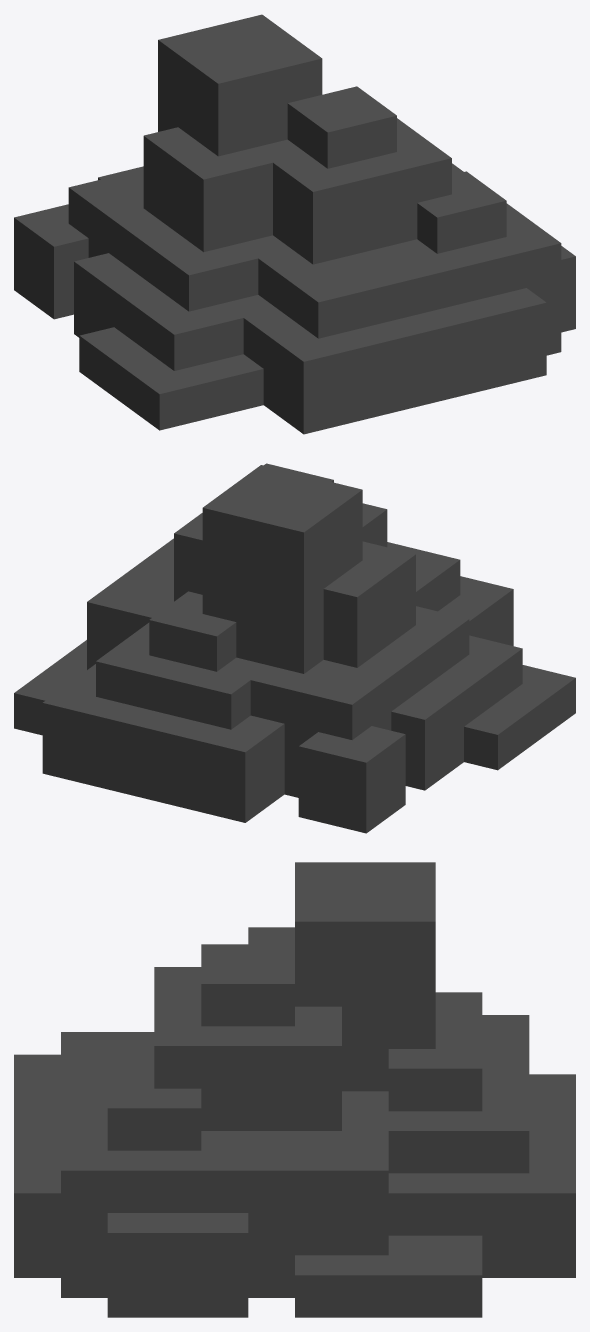
File: stone_5.obj
The picture shows the model from 3 angles, top to bottom: view 1: azimuth 30°, elevation 25°; view 2: azimuth 150°, elevation 25°; view 3: azimuth 270°, elevation 25°; orthographic projection. The views are drawn at different scales.
Size of the model in its own units: 1.2 by 0.7 by 1.2.
1 material, 1 textured.
